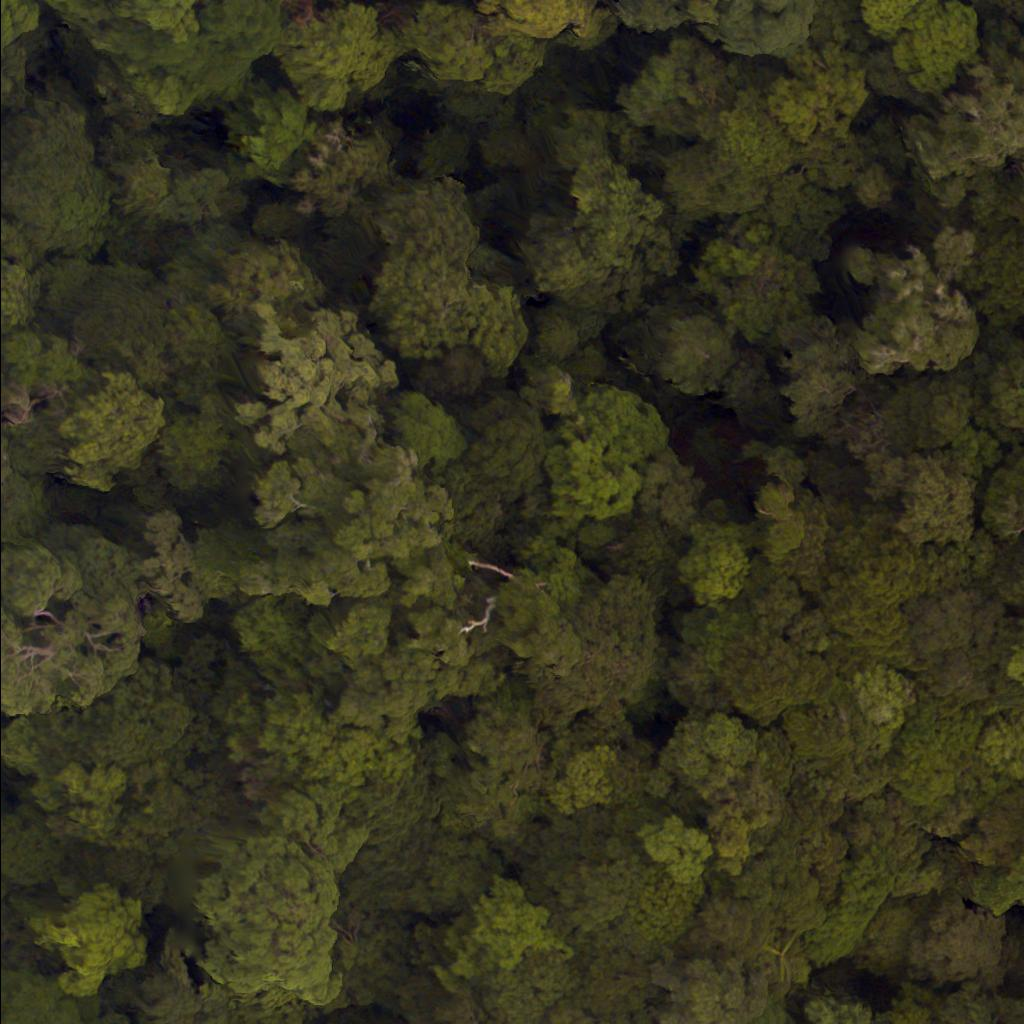crown: (368, 175, 534, 377), (230, 300, 416, 478), (521, 109, 680, 315), (244, 456, 455, 608), (94, 726, 249, 899), (191, 841, 345, 1010), (407, 534, 588, 673), (327, 604, 496, 734), (518, 574, 662, 725), (341, 787, 496, 920), (0, 658, 189, 766), (256, 690, 404, 822), (811, 507, 927, 666), (907, 45, 1023, 202), (732, 791, 855, 937), (775, 320, 891, 462), (846, 249, 981, 371), (448, 702, 543, 872), (546, 388, 665, 522), (697, 217, 826, 340), (391, 1, 545, 92), (26, 882, 147, 996), (613, 33, 739, 141), (778, 677, 890, 798), (58, 371, 168, 491), (278, 1, 393, 113), (880, 694, 981, 821), (756, 37, 875, 142), (650, 144, 779, 239), (0, 94, 94, 221), (805, 846, 901, 968), (457, 391, 557, 508), (447, 884, 563, 982), (205, 240, 327, 331), (57, 270, 170, 367), (862, 455, 978, 549), (909, 590, 1010, 692), (130, 303, 224, 410), (564, 921, 661, 1023), (720, 627, 820, 722), (295, 120, 393, 216), (650, 953, 776, 1023), (756, 172, 847, 266), (229, 86, 315, 185), (891, 0, 979, 92), (661, 717, 759, 799), (40, 762, 129, 848), (232, 592, 317, 681), (477, 0, 619, 51), (710, 90, 792, 177), (910, 915, 1013, 984), (386, 390, 467, 476), (648, 310, 736, 388), (133, 928, 204, 1023), (486, 949, 575, 1023), (961, 226, 1023, 330), (967, 334, 1023, 446), (889, 370, 970, 447), (157, 409, 230, 490), (709, 0, 813, 56), (681, 896, 773, 958), (678, 523, 749, 603), (987, 465, 1023, 616), (625, 871, 704, 939), (199, 0, 282, 63), (548, 744, 621, 815), (850, 903, 915, 978), (962, 785, 1023, 864), (0, 809, 61, 887), (0, 969, 84, 1023), (640, 821, 712, 883), (849, 665, 921, 727), (604, 0, 753, 29), (411, 351, 486, 407), (964, 841, 1023, 912), (400, 980, 497, 1023), (203, 985, 306, 1023), (519, 354, 576, 419), (809, 0, 883, 50), (113, 157, 172, 215), (798, 987, 892, 1023), (186, 47, 250, 97), (127, 0, 198, 42), (977, 715, 1023, 773), (930, 229, 976, 287), (530, 308, 580, 361), (881, 983, 939, 1023), (953, 431, 1003, 475), (0, 33, 27, 112), (0, 0, 40, 45), (555, 1008, 634, 1023), (992, 999, 1023, 1023), (1008, 650, 1023, 687), (0, 448, 11, 488)
